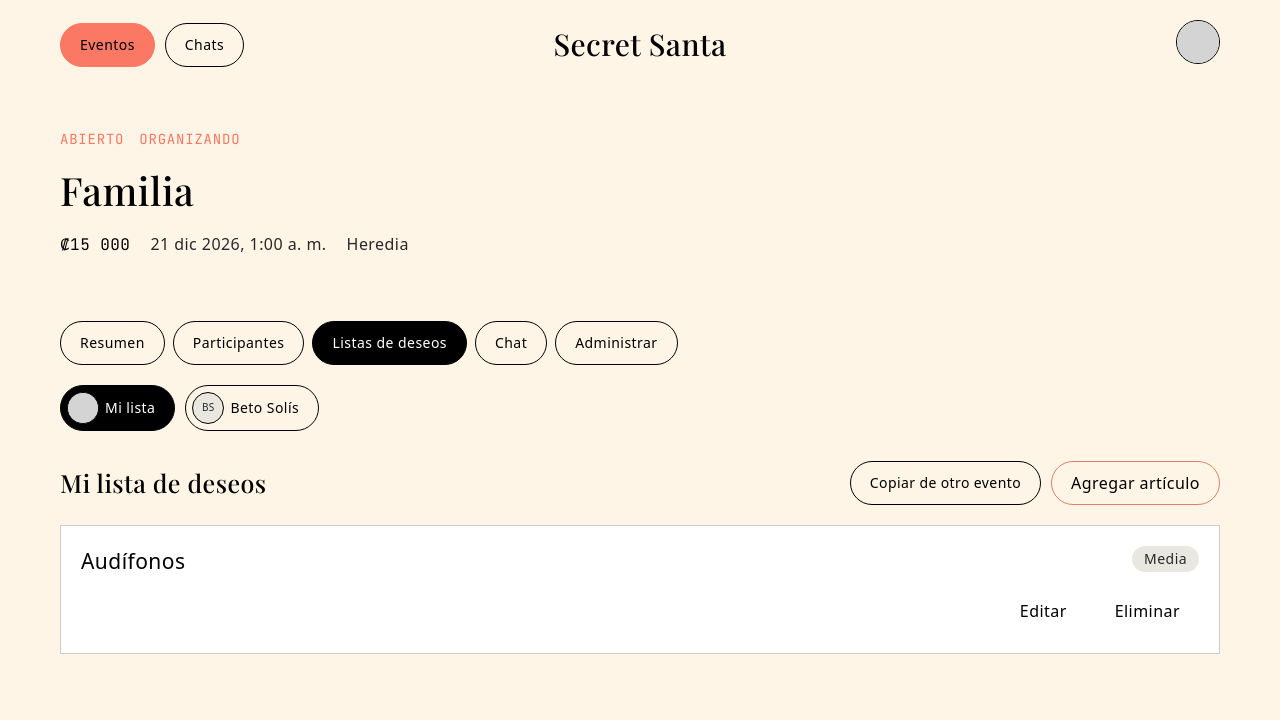
Test: Photo uploader (owner edit sheet) › offers exactly three dashed slots, each with an "Add photo" pill
Expected: the element named "Lista de quién" is shown, [60,384,319,430]
What coordinates should you click on to do the following:
click the button with aria-label "Editar Audífonos"
I would click on:
 (1043, 611)
Its box is [1001,589,1086,633].
(page scrolled)
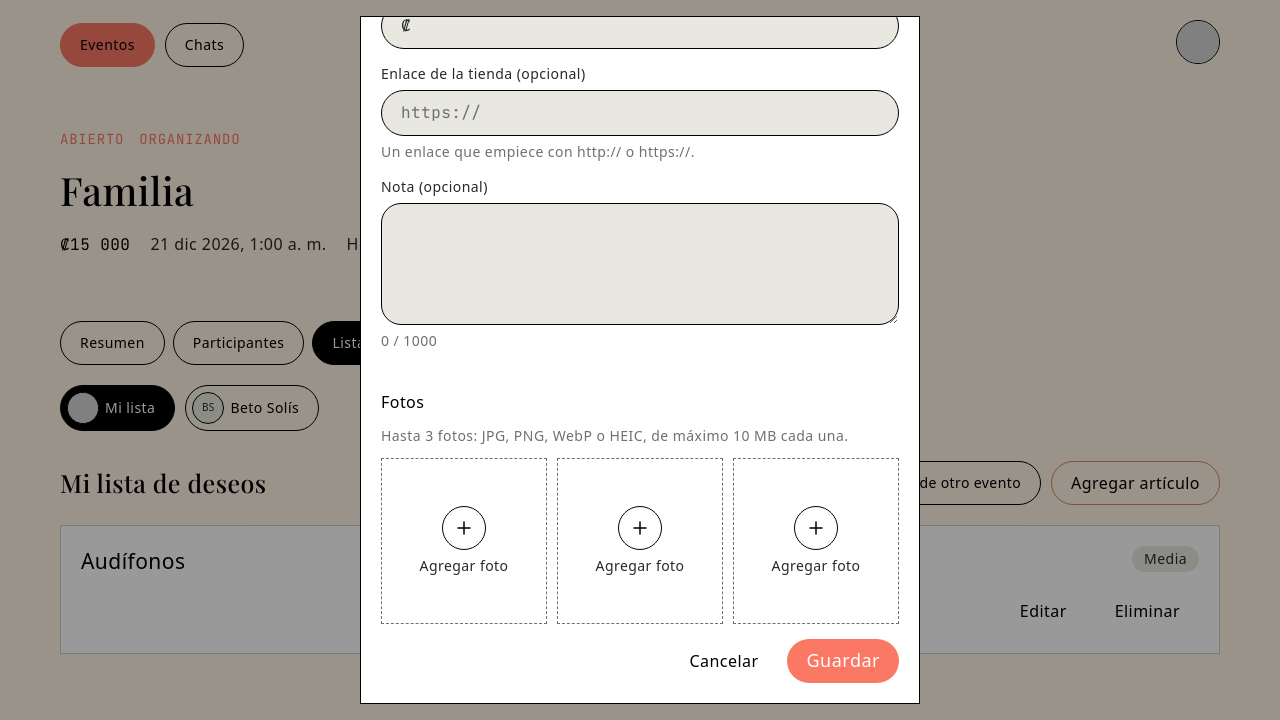
Now the number of buttons named "Agregar foto" is 3, box [442,506,486,550]; [618,506,662,550]; [794,506,838,550]
